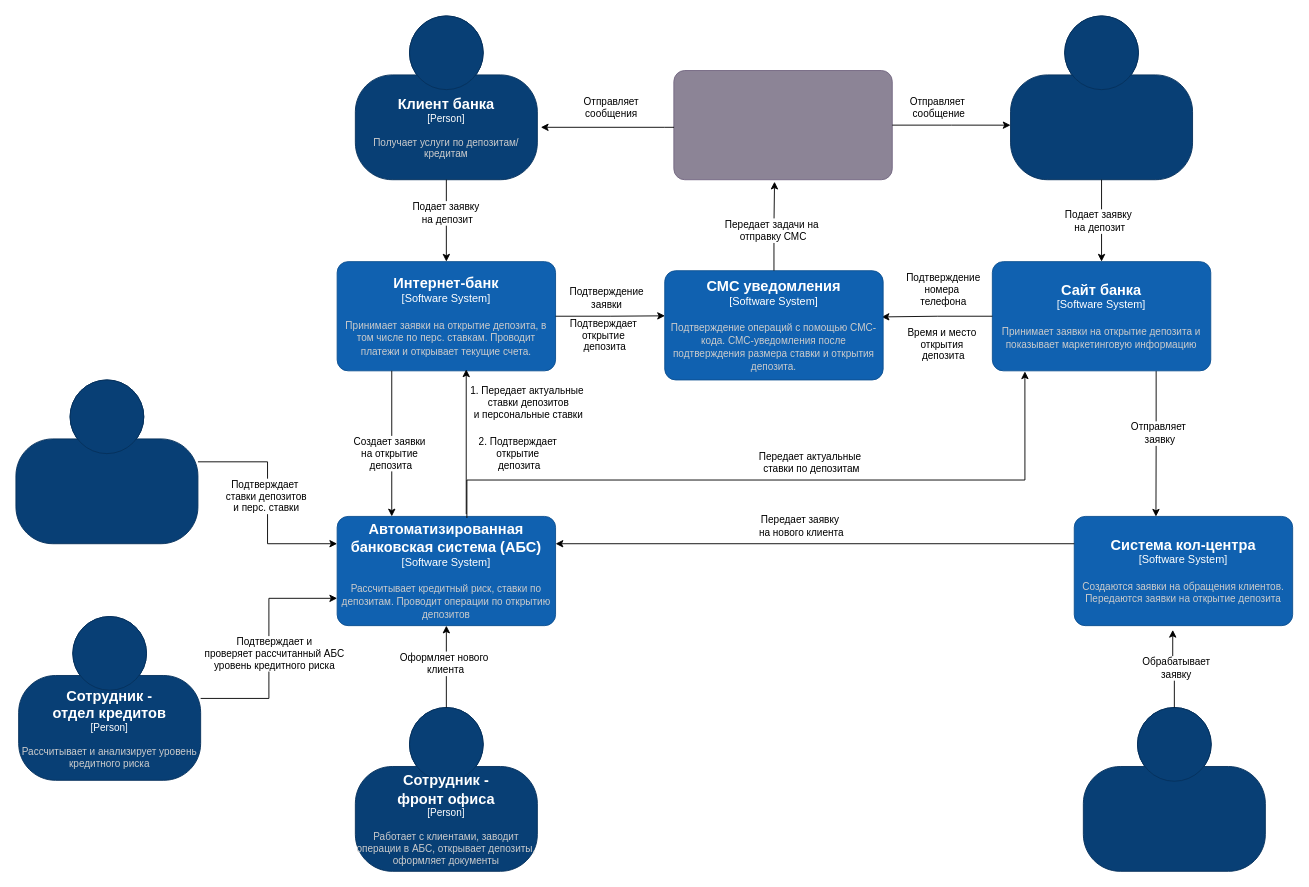
Image size: 1309x887. Some labels were removed from this diagram. The shapes that lost their labels are listed below. From the top down, each one's centre as x and y in pixels, then its label:
At point 1101,97: "Потенциальный клиент банка [Person] Желает получить услуги по депозитам/кредитам".
At point 782,125: "Телеком оператор [Software System] Отправляет сообщения".
At point 106,461: "Сотрудник - отдел депозитов [Person] Согласовывает ставку по депозитам.".
At point 1173,789: "Сотрудник кол-центра банка [Person] Консультирует клиентов банка".
